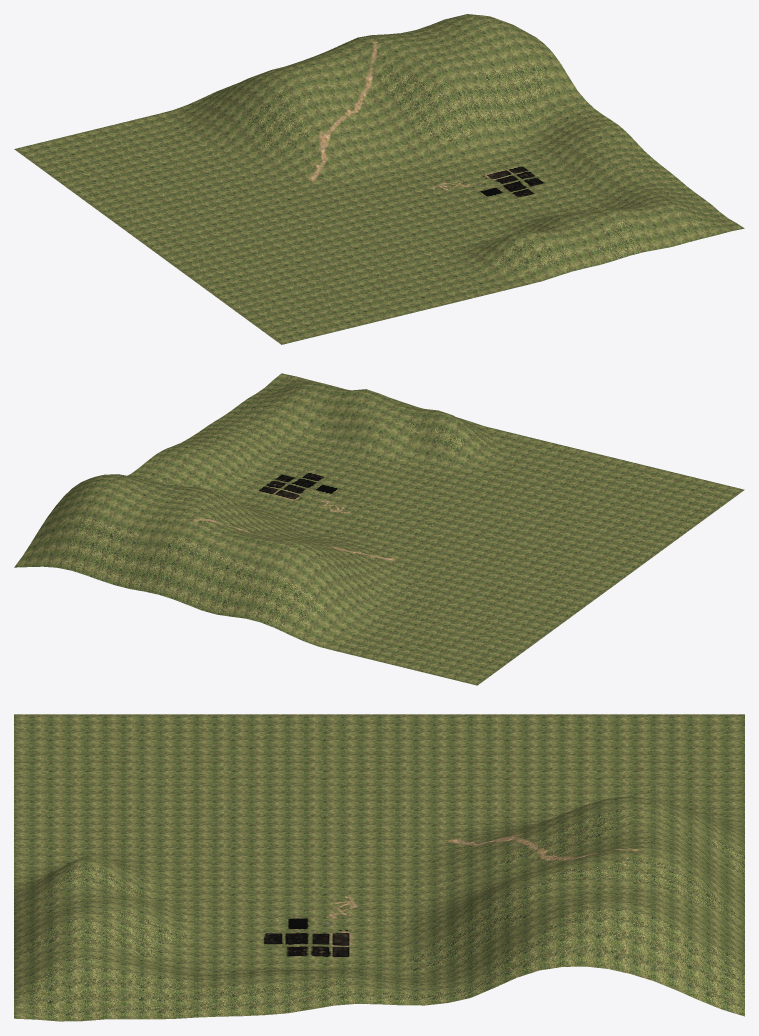
3 renders of one model, top to bottom at view 1: azimuth 30°, elevation 25°; view 2: azimuth 150°, elevation 25°; view 3: azimuth 270°, elevation 25°, orthographic. The views are drawn at different scales.
Parts seen in each view (by area): view 1: Mesh; view 2: Mesh; view 3: Mesh.
Part boxes in pixels (left/top/right/bottom): Mesh: left=14, top=14, right=744, bottom=344; Mesh: left=14, top=373, right=744, bottom=685; Mesh: left=14, top=714, right=744, bottom=1021.
Bounding box in the file's own units: 500 × 65.7 × 500.
Materials: 1 (1 with a texture image).
